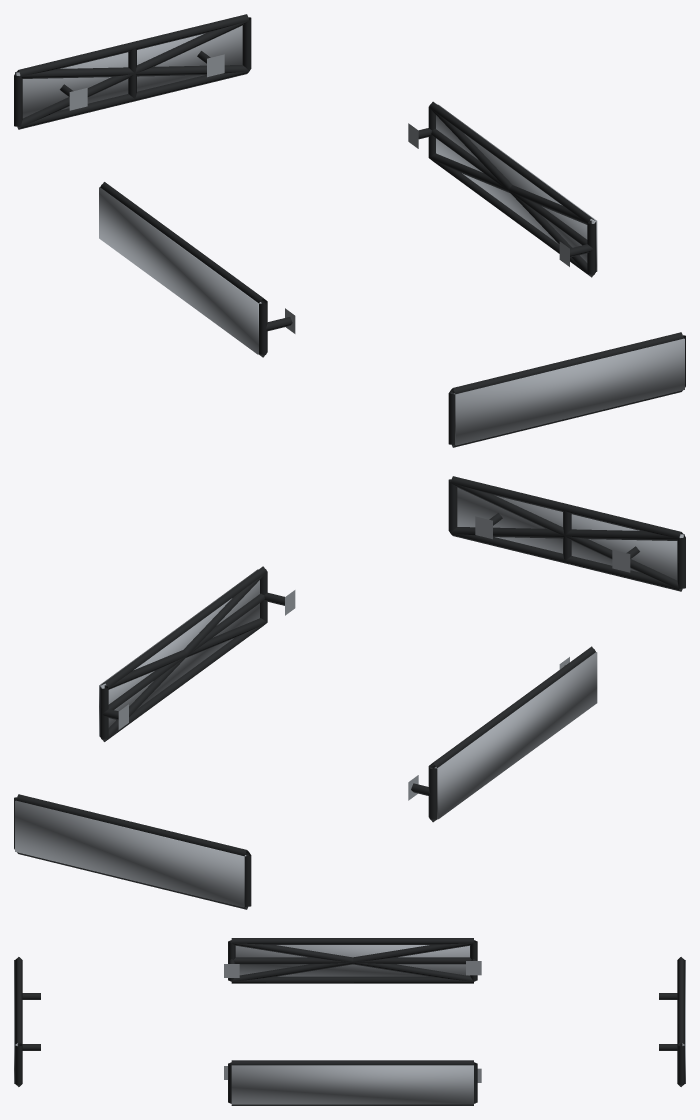
File: pemberly_claustro_protecao.glb
The picture shows the model from 3 angles, top to bottom: view 1: azimuth 30°, elevation 25°; view 2: azimuth 150°, elevation 25°; view 3: azimuth 270°, elevation 25°; orthographic projection. The views are drawn at different scales.
Parts seen in each view (by area): view 1: Protection_front_Level3_Details, Protection_left_Level3_Details, Protection_rear_Level1_Details, Protection_rear_Level3_Details, Protection_right_Level1_Details, Protection_rear_Level2_Details, Protection_right_Level2_Details, Protection_right_Level3_Details, Protection_front_Level1_Details, Protection_left_Level1_Details; view 2: Protection_rear_Level3_Details, Protection_left_Level3_Details, Protection_front_Level1_Details, Protection_front_Level3_Details, Protection_right_Level1_Details, Protection_front_Level2_Details, Protection_right_Level2_Details, Protection_right_Level3_Details, Protection_rear_Level1_Details, Protection_left_Level1_Details; view 3: Protection_right_Level3_Details, Protection_left_Level2_Details, Protection_left_Level1_Details, Protection_left_Level3_Details, Protection_right_Level1_Details, Protection_rear_Level1_Details, Protection_front_Level1_Details.
Boxes of the visible parts, bbox=[...] form: Protection_front_Level3_Details: bbox=[453, 338, 684, 445]; Protection_left_Level3_Details: bbox=[99, 187, 261, 354]; Protection_rear_Level1_Details: bbox=[14, 14, 251, 129]; Protection_rear_Level3_Details: bbox=[15, 25, 242, 118]; Protection_right_Level1_Details: bbox=[408, 101, 596, 277]; Protection_rear_Level2_Details: bbox=[16, 21, 248, 128]; Protection_right_Level2_Details: bbox=[429, 107, 595, 276]; Protection_right_Level3_Details: bbox=[436, 104, 597, 271]; Protection_front_Level1_Details: bbox=[448, 332, 685, 447]; Protection_left_Level1_Details: bbox=[100, 182, 295, 357]; Protection_rear_Level3_Details: bbox=[15, 800, 246, 907]; Protection_left_Level3_Details: bbox=[434, 652, 597, 819]; Protection_front_Level1_Details: bbox=[448, 476, 685, 591]; Protection_front_Level3_Details: bbox=[457, 487, 684, 580]; Protection_right_Level1_Details: bbox=[100, 566, 295, 741]; Protection_front_Level2_Details: bbox=[451, 483, 683, 590]; Protection_right_Level2_Details: bbox=[101, 572, 267, 741]; Protection_right_Level3_Details: bbox=[99, 569, 259, 736]; Protection_rear_Level1_Details: bbox=[14, 794, 251, 909]; Protection_left_Level1_Details: bbox=[408, 646, 595, 822]; Protection_right_Level3_Details: bbox=[231, 1065, 473, 1104]; Protection_left_Level2_Details: bbox=[231, 942, 474, 981]; Protection_left_Level1_Details: bbox=[224, 938, 481, 983]; Protection_left_Level3_Details: bbox=[235, 945, 469, 976]; Protection_right_Level1_Details: bbox=[224, 1060, 481, 1105]; Protection_rear_Level1_Details: bbox=[659, 957, 684, 1086]; Protection_front_Level1_Details: bbox=[15, 957, 40, 1086].
Size of the model in its own units: 2.1 by 0.354 by 4.72.
Materials: 1 (1 with a texture image).
